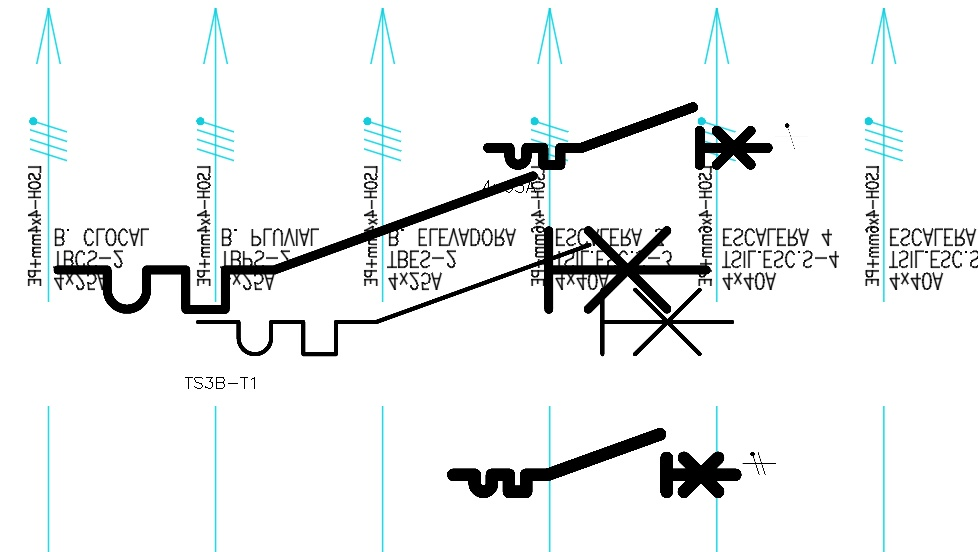interruptor_termomagnetico: (41, 159, 723, 326), (184, 231, 746, 368), (446, 427, 743, 499), (481, 100, 775, 172)
